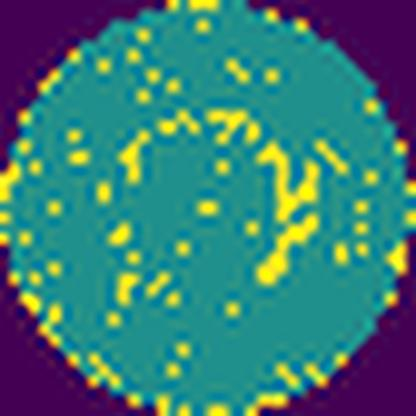Donut: (90, 98, 332, 323)
